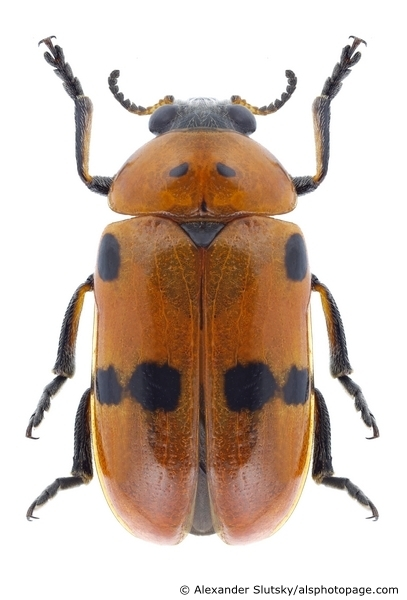Clytra_novempunctata: (17, 21, 385, 538)
